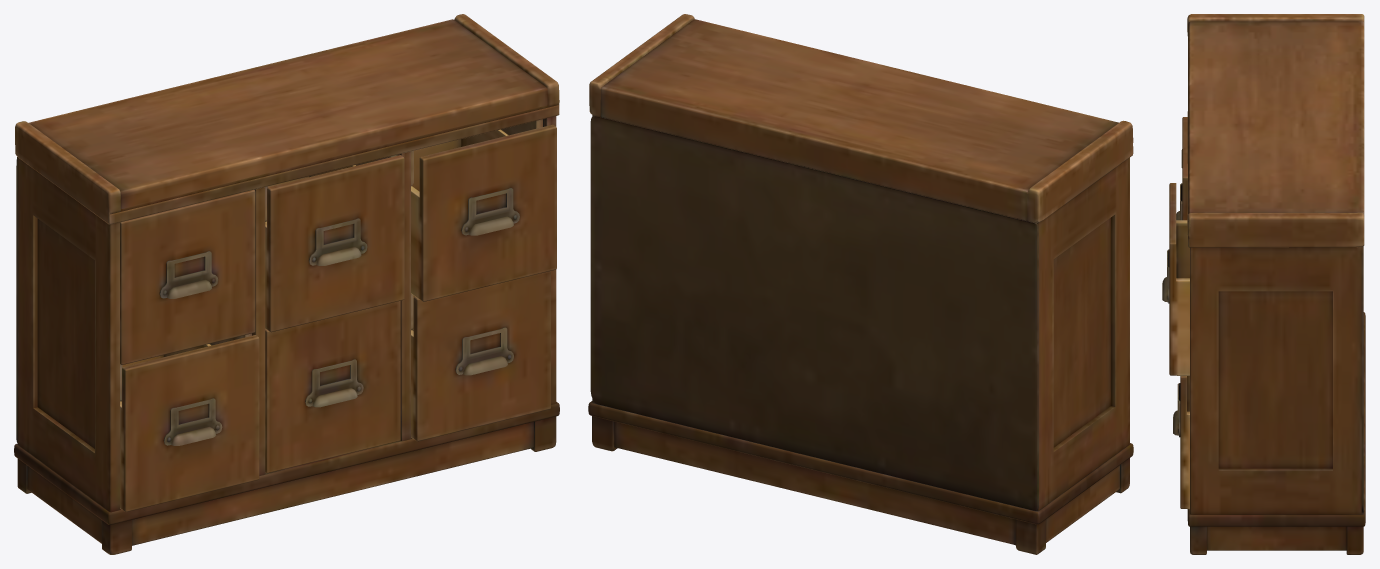
File: chest-of-drawers.4eea5d6fff.glb
The picture shows the model from 3 angles, left to right: view 1: azimuth 30°, elevation 25°; view 2: azimuth 150°, elevation 25°; view 3: azimuth 270°, elevation 25°; orthographic projection. The views are drawn at different scales.
Visible parts, largest first — view 1: vintage_wooden_drawer_01_body; view 2: vintage_wooden_drawer_01_body; view 3: vintage_wooden_drawer_01_body.
Boxes of the visible parts, x1,y1,x2,y2 form: vintage_wooden_drawer_01_body: (14,14,559,554); vintage_wooden_drawer_01_body: (588,14,1133,554); vintage_wooden_drawer_01_body: (1162,14,1365,554).
Bounding box in the file's own units: 1.2 × 0.9273 × 0.5035.
1 material, 1 textured.
